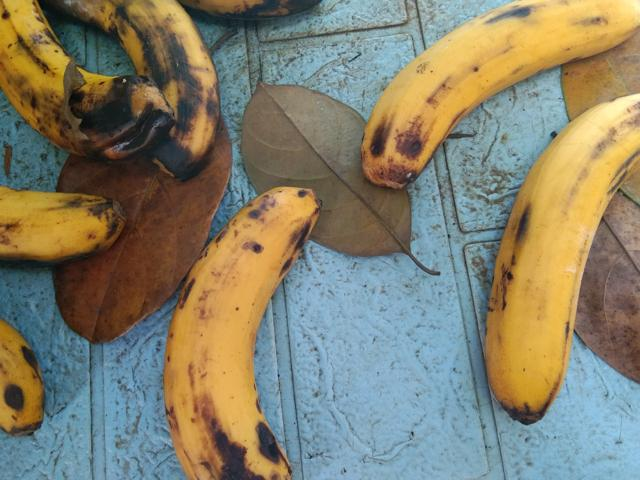overripe: (137, 174, 333, 479), (0, 173, 159, 273), (0, 306, 73, 438)
ripe: (465, 74, 639, 431), (352, 0, 639, 198)
rotten: (0, 0, 173, 152), (92, 0, 239, 153)
